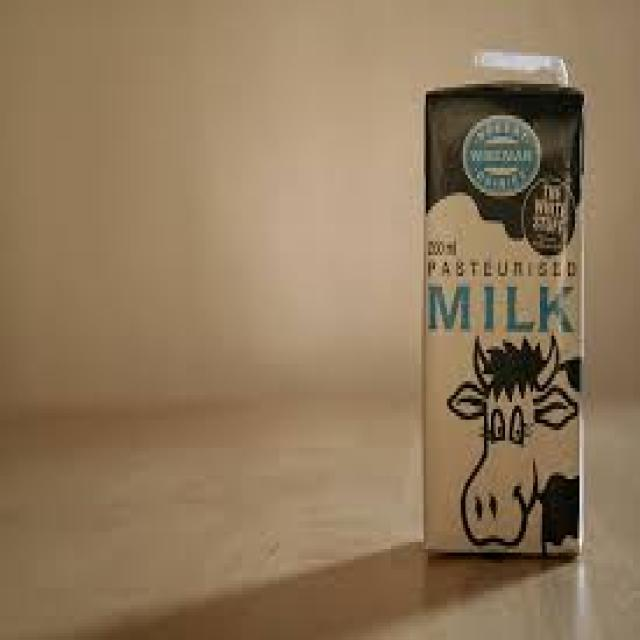cardboard: (421, 84, 584, 556)
plastic: (466, 45, 566, 77)
